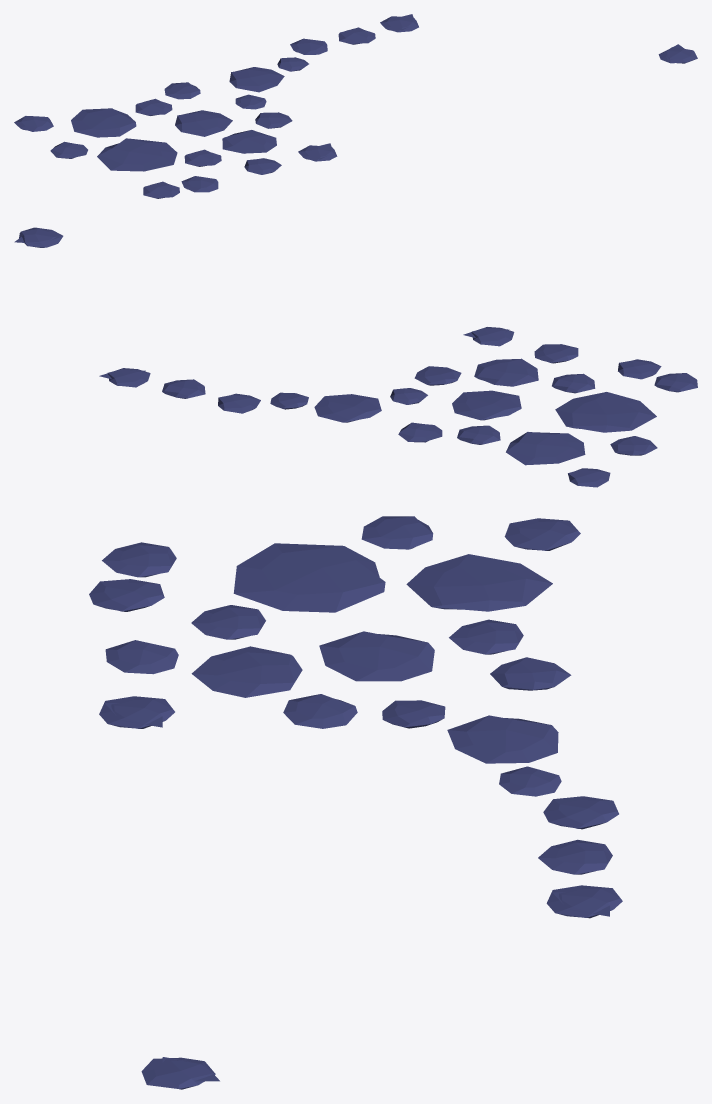
The model's file is tileset_path_rocky.fbx.
The picture shows the model from 3 angles, top to bottom: view 1: azimuth 30°, elevation 25°; view 2: azimuth 150°, elevation 25°; view 3: azimuth 270°, elevation 25°; orthographic projection. The views are drawn at different scales.
Visible parts, largest first — view 1: path_tiles_flat, path_tiles_in, path_tiles_line, path_tiles_saddle, path_tiles_out; view 2: path_tiles_flat, path_tiles_in, path_tiles_line, path_tiles_saddle, path_tiles_out; view 3: path_tiles_flat, path_tiles_in, path_tiles_line, path_tiles_saddle, path_tiles_out.
Part boxes in pixels (x1,y1,x2,y2): path_tiles_flat: (14,82,276,171); path_tiles_in: (229,27,375,128); path_tiles_line: (143,158,281,198); path_tiles_saddle: (380,14,697,63); path_tiles_out: (298,143,337,161); path_tiles_flat: (398,358,657,487); path_tiles_in: (162,366,461,422); path_tiles_line: (534,344,697,392); path_tiles_saddle: (14,227,150,387); path_tiles_out: (463,327,514,346); path_tiles_flat: (191,516,580,697); path_tiles_in: (283,694,618,874); path_tiles_line: (89,542,178,674); path_tiles_saddle: (141,885,622,1089); path_tiles_out: (99,696,174,728).
Size of the model in its own units: 15.15 by 0.1327 by 5.97.
